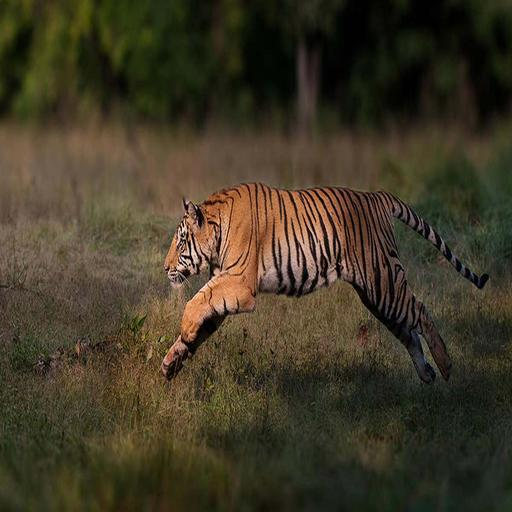Tiger: (148, 181, 500, 399)
